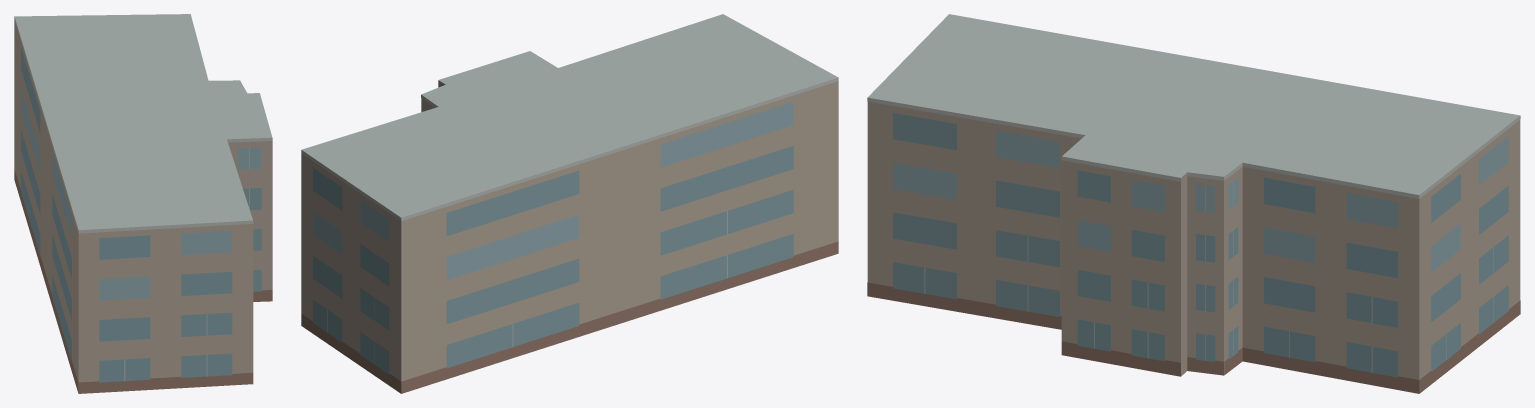
The model's file is survey-upis-32768622.glb.
The picture shows the model from 3 angles, left to right: view 1: azimuth 30°, elevation 25°; view 2: azimuth 150°, elevation 25°; view 3: azimuth 270°, elevation 25°; orthographic projection. The views are drawn at different scales.
Parts seen in each view (by area): view 1: survey-upis-32768622.tmp; view 2: survey-upis-32768622.tmp; view 3: survey-upis-32768622.tmp.
Part boxes in pixels (left/top/right/bottom): survey-upis-32768622.tmp: left=14, top=14, right=272, bottom=393; survey-upis-32768622.tmp: left=301, top=14, right=838, bottom=393; survey-upis-32768622.tmp: left=867, top=14, right=1520, bottom=393.
Size of the model in its own units: 23.87 by 12.2 by 36.34.
